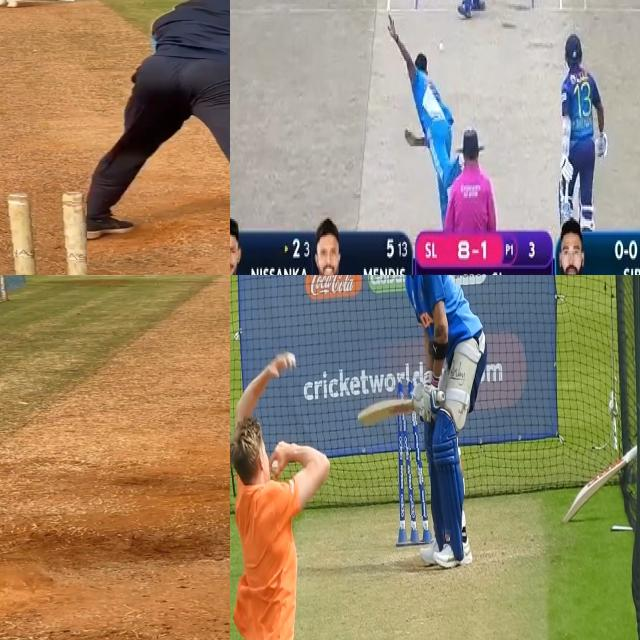Cricket ball: (437, 40, 446, 58)
Stumps: (0, 190, 86, 275), (396, 372, 431, 543)
